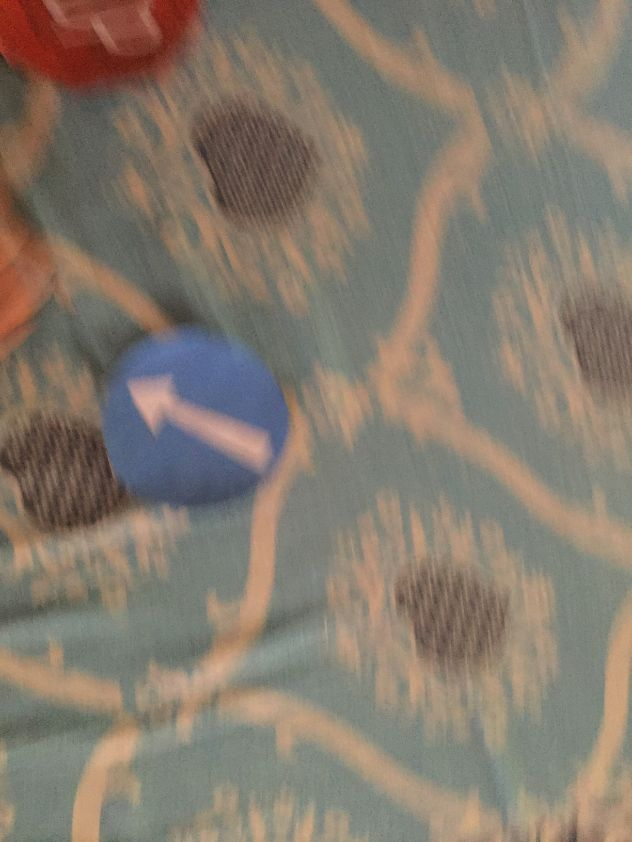keep-left: (103, 323, 284, 504)
